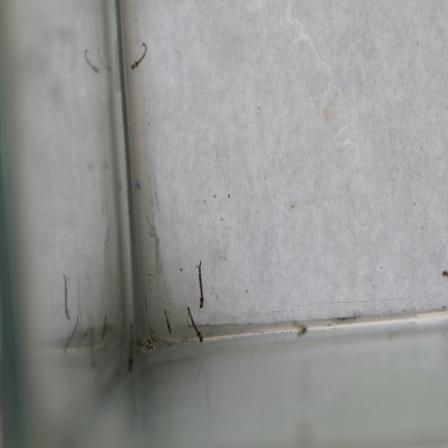Jentik-Nyamuk: (183, 309, 212, 346), (127, 39, 150, 75), (196, 259, 209, 308)
